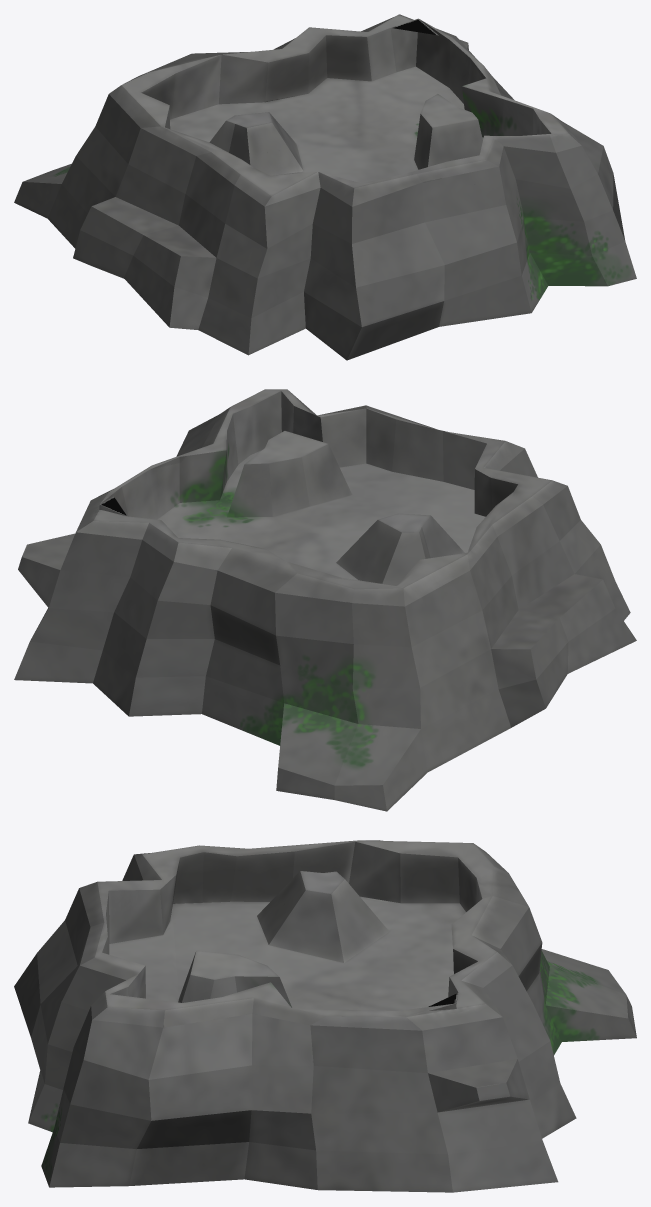
The model's file is batu 4.fbx.
3 views of the same model, one above another, from view 1: azimuth 30°, elevation 25°; view 2: azimuth 150°, elevation 25°; view 3: azimuth 270°, elevation 25° (orthographic). The views are drawn at different scales.
Visible parts, largest first — view 1: Plane.007; view 2: Plane.007; view 3: Plane.007.
Boxes of the visible parts, x1,y1,x2,y2 form: Plane.007: (14,14,636,360); Plane.007: (14,389,636,811); Plane.007: (14,840,636,1192).
Bounding box in the file's own units: 639 × 212 × 680.
